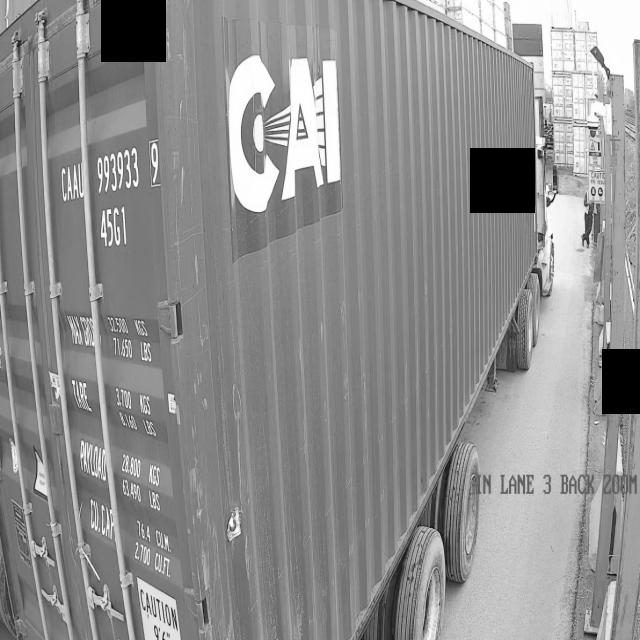container_company_logo: (215, 14, 378, 251)
container_number: (53, 117, 185, 640)
truck_with_container: (0, 0, 557, 640)
